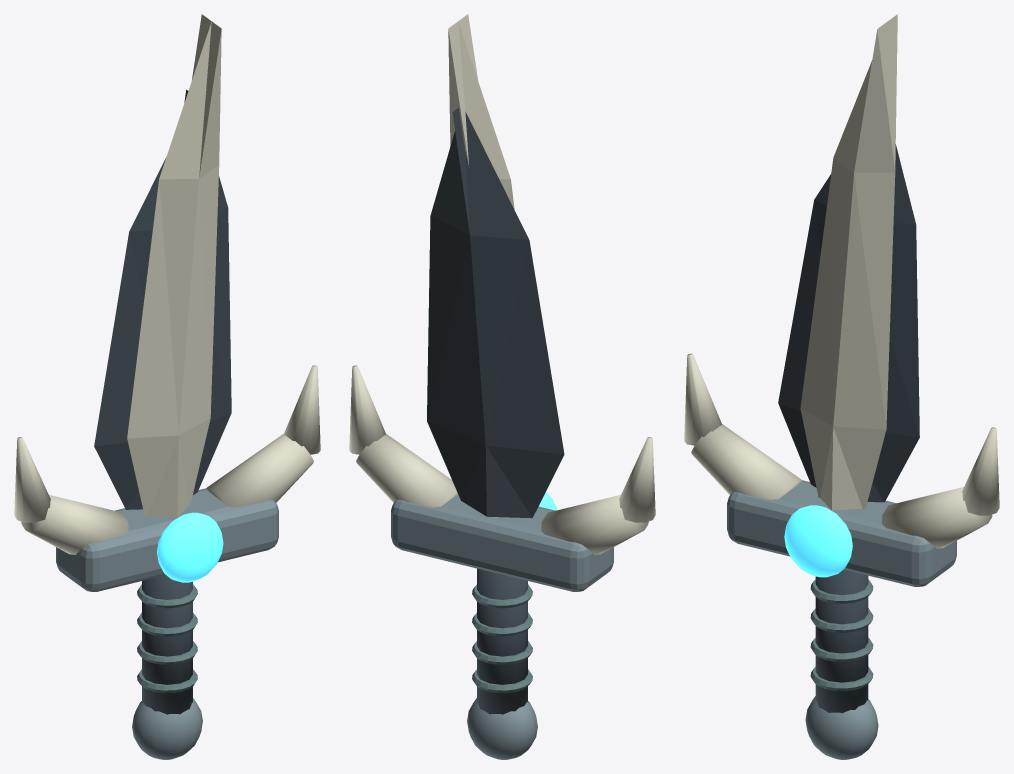
Rendered from YK_00_Muk_Weapon_E01.glb.
The picture shows the model from 3 angles, left to right: view 1: azimuth 30°, elevation 25°; view 2: azimuth 150°, elevation 25°; view 3: azimuth 330°, elevation 25°; orthographic projection. The views are drawn at different scales.
Parts seen in each view (by area): view 1: SM_YK_00_Muk_Weapon_P00, SM_YK_00_Muk_Weapon_P01; view 2: SM_YK_00_Muk_Weapon_P01, SM_YK_00_Muk_Weapon_P00; view 3: SM_YK_00_Muk_Weapon_P00, SM_YK_00_Muk_Weapon_P01.
Boxes of the visible parts, x1,y1,x2,y2 form: SM_YK_00_Muk_Weapon_P00: (56,14,278,759); SM_YK_00_Muk_Weapon_P01: (14,89,320,554); SM_YK_00_Muk_Weapon_P01: (349,108,655,554); SM_YK_00_Muk_Weapon_P00: (391,14,613,759); SM_YK_00_Muk_Weapon_P00: (727,14,956,759); SM_YK_00_Muk_Weapon_P01: (684,144,999,548).
Bounding box in the file's own units: 0.6119 × 1.41 × 0.18.
